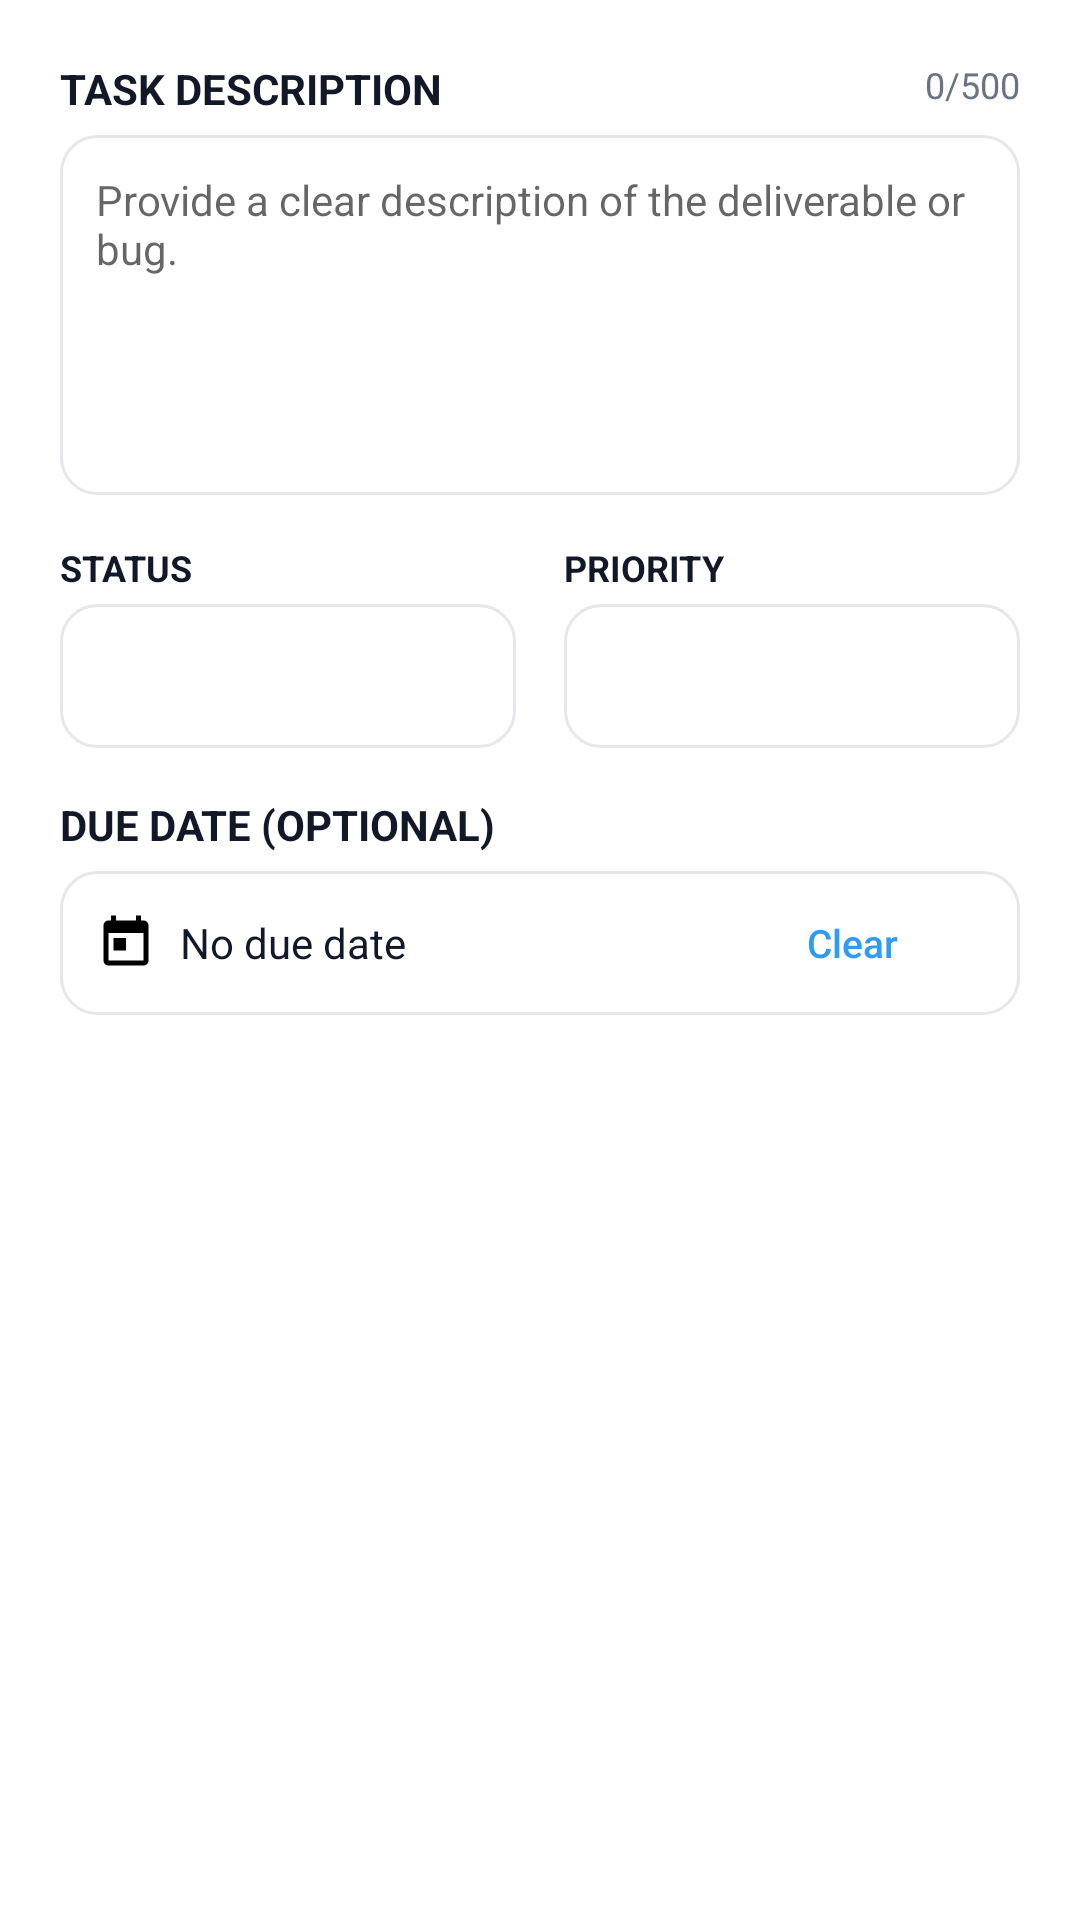

Where icons sit on this 1080×1920 app screen, as detection(x1, y1, x2, y2):
calendar: detection(103, 915, 149, 966)
